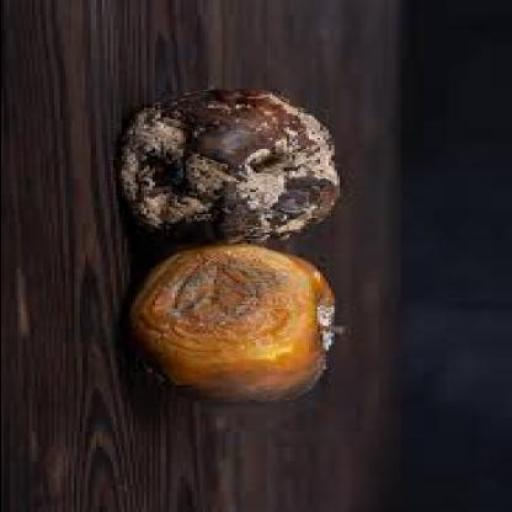biodegradable: (128, 240, 352, 400), (118, 88, 342, 238)
